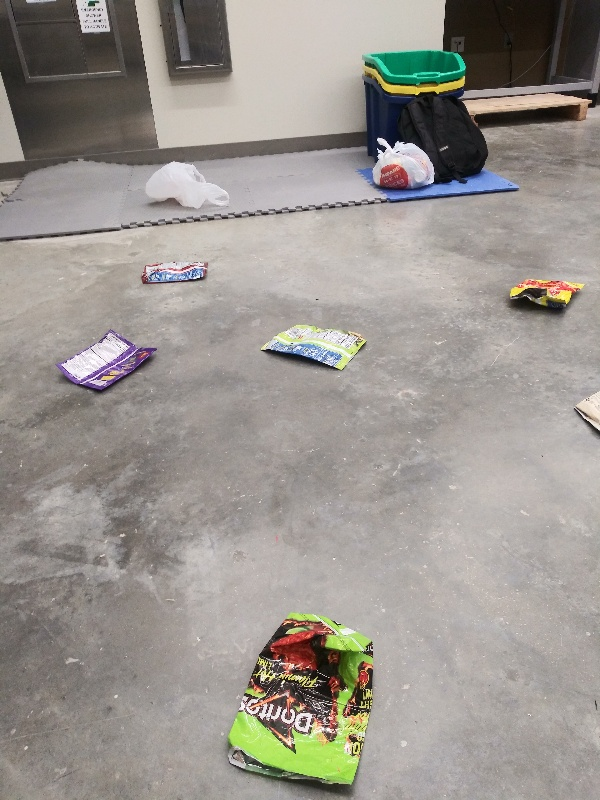bag: (223, 604, 378, 795), (47, 325, 160, 394), (252, 320, 372, 373), (506, 275, 587, 316), (137, 256, 212, 287), (571, 387, 600, 437)
